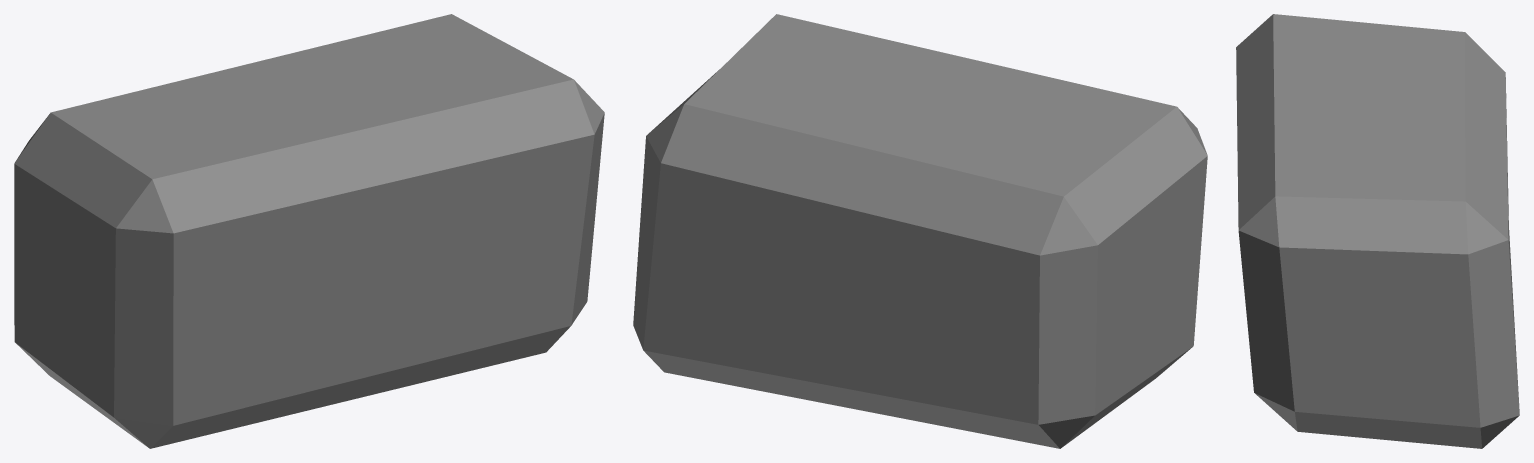
Rendered from Brick_Single_04.fbx.
The picture shows the model from 3 angles, left to right: view 1: azimuth 30°, elevation 25°; view 2: azimuth 150°, elevation 25°; view 3: azimuth 270°, elevation 25°; orthographic projection. The views are drawn at different scales.
Visible parts, largest first — view 1: Brick_Single_04; view 2: Brick_Single_04; view 3: Brick_Single_04.
Part boxes in pixels (x1,y1,x2,y2): Brick_Single_04: [14, 14, 604, 448]; Brick_Single_04: [633, 14, 1207, 448]; Brick_Single_04: [1236, 14, 1519, 448].
Bounding box in the file's own units: 36.56 × 21.08 × 21.14.
